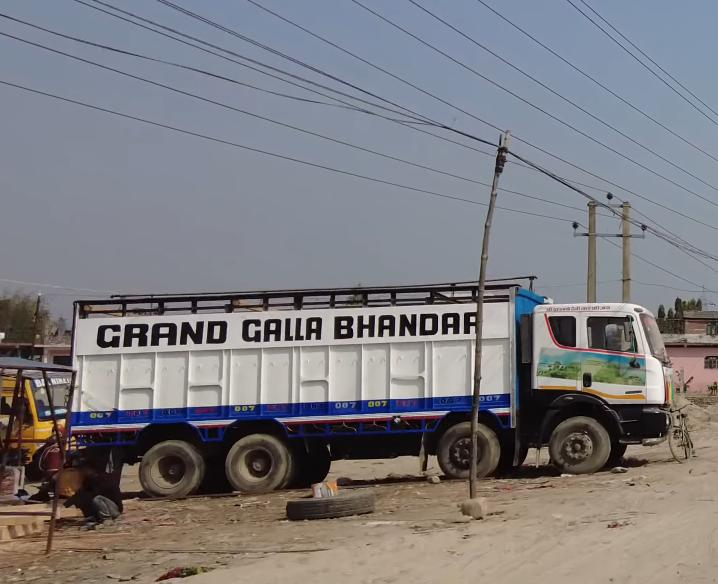truck: (62, 279, 675, 498)
